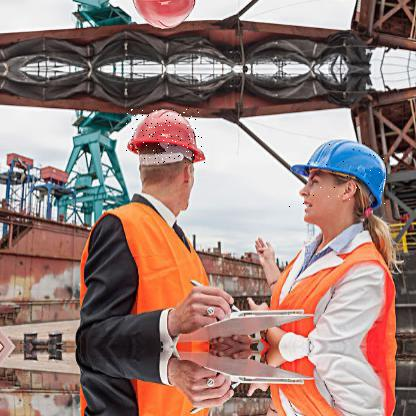safetyhelmet: (289, 138, 386, 210), (126, 108, 206, 164)
